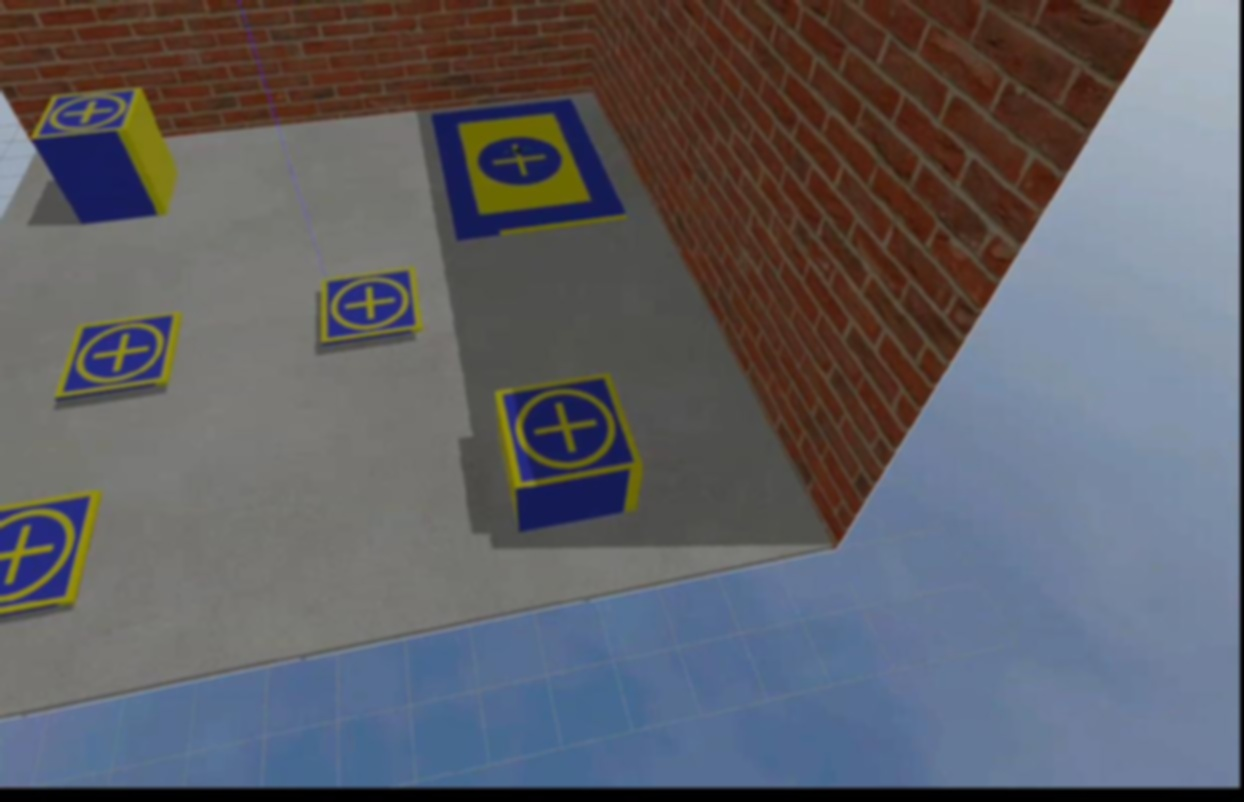large_base: (438, 104, 627, 234)
small_base: (494, 373, 649, 501), (11, 491, 99, 612), (60, 317, 182, 398), (316, 268, 425, 347), (38, 96, 144, 147)
